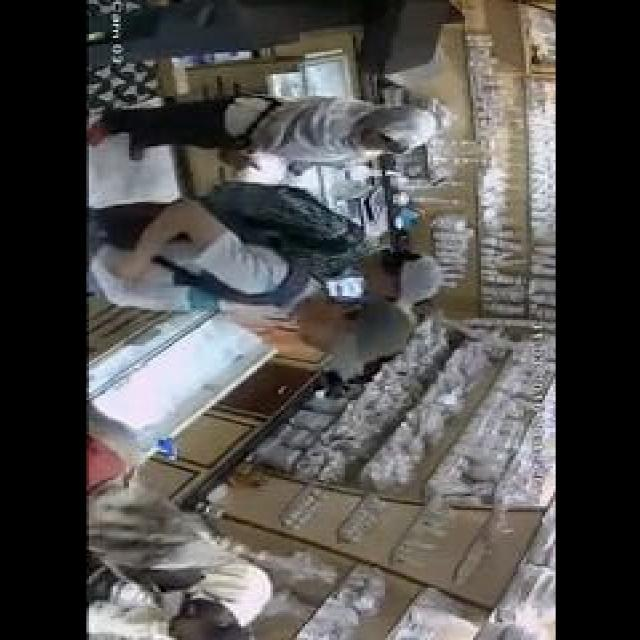Shoplifting: (83, 86, 483, 396)
